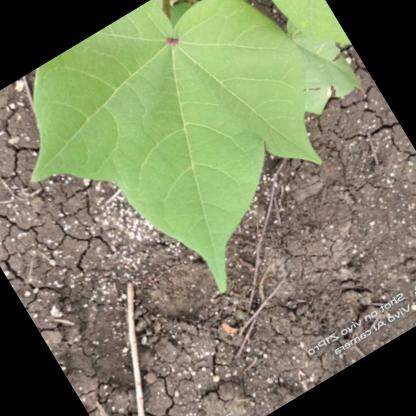cotton: (0, 0, 401, 367)
